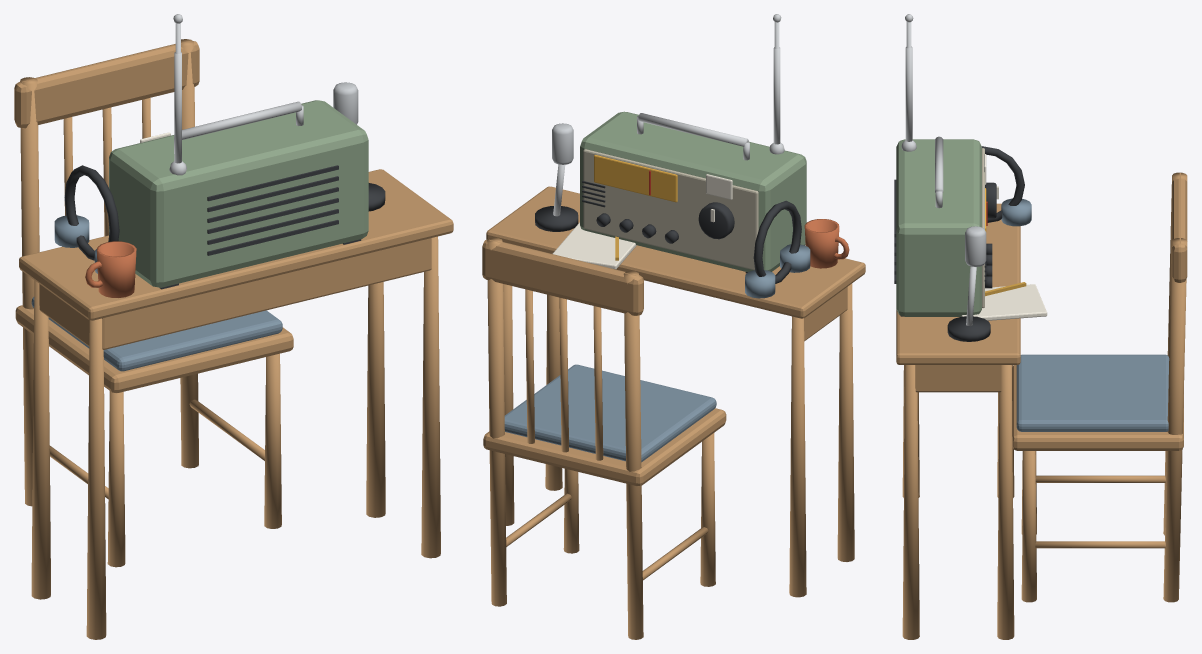
The model's file is shortwaveRadio.glb.
3 views of the same model, side by side, from view 1: azimuth 30°, elevation 25°; view 2: azimuth 150°, elevation 25°; view 3: azimuth 270°, elevation 25° (orthographic). The views are drawn at different scales.
Visible parts, largest first — view 1: body; view 2: body, dial; view 3: body.
Boxes of the visible parts, x1,y1,x2,y2 form: body: (14,39,453,639); body: (482,47,865,639); dial: (698,202,734,239); body: (894,46,1187,639).
Size of the model in its own units: 0.84 by 1.33 by 0.682.
